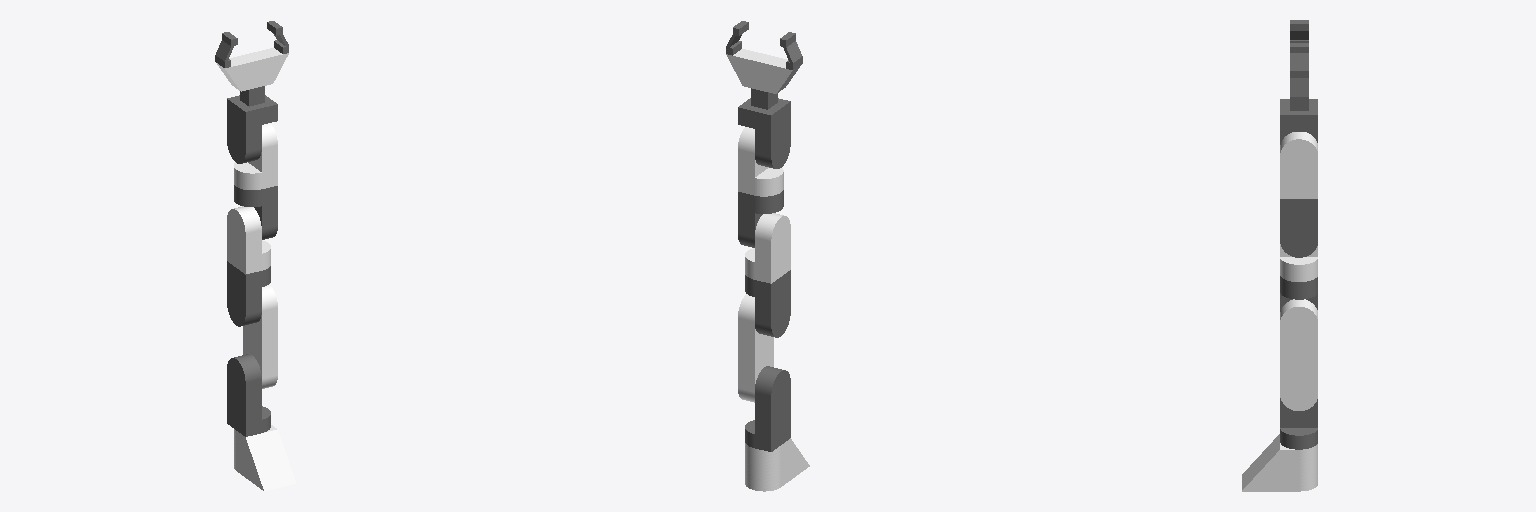
The robot description file, URDF, robot "penguin":
<?xml version="1.0" encoding="utf-8"?>
<!-- =================================================================================== -->
<!-- |    This document was autogenerated by xacro from urdf/mesh_arm.xacro            | -->
<!-- |    EDITING THIS FILE BY HAND IS NOT RECOMMENDED                                 | -->
<!-- =================================================================================== -->
<robot name="penguin">
  <material name="Black">
    <color rgba="0.5 0.5 0.5 1"/>
  </material>
  <material name="White">
    <color rgba="1 1 1 1"/>
  </material>

  <link name="origin">
      <origin xyz="0 0 0.005"/>
  </link>

  <joint name="rotating_base" type="revolute">
    <parent link="origin"/>
    <child link="base_link"/>
    <origin xyz="0 0 0"/>
    <axis xyz="0 0 1"/>
    <limit effort="300" lower="-3.14" upper="3.14" velocity="0.1"/>
  </joint>

  <link name="base_link">
    <visual>
      <geometry>
        <mesh filename="package://robot_description_pkg/meshes/base_link.stl" scale="0.001 0.001 0.001"/>
      </geometry>
      <origin rpy="0 0 0" xyz="0 0 0"/>
      <material name="White"/>
    </visual>
    <collision>
      <geometry>
        <mesh filename="package://robot_description_pkg/meshes/base_link.stl" scale="0.0011 0.0011 0.0011"/>
      </geometry>
      <origin rpy="0 0 0" xyz="0 0 0"/>
    </collision>
  </link>
  <joint name="base_link_link_1" type="revolute">
    <parent link="base_link"/>
    <child link="link_1"/>
    <origin xyz="0 0 0.06"/>
    <axis xyz="0 0 1"/>
    <limit effort="300" lower="-3.14" upper="3.14" velocity="0.1"/>
  </joint>
  <link name="link_1">
    <visual>
      <geometry>
        <mesh filename="package://robot_description_pkg/meshes/link_1.stl" scale="0.001 0.001 0.001"/>
      </geometry>
      <origin rpy="0 0 0" xyz="0 0 0"/>
      <material name="Black"/>
    </visual>
    <collision>
      <geometry>
        <mesh filename="package://robot_description_pkg/meshes/link_1.stl" scale="0.0011 0.0011 0.0011"/>
      </geometry>
      <origin rpy="0 0 0" xyz="0 0 0"/>
    </collision>
    <inertial>
      <mass value="0.075"/>
      <inertia ixx="160347952.0" ixy="0.073988" ixz="15663199.0" iyy="149014144.0" iyz="0.506316" izz="44131488.0"/>
    </inertial>
  </link>
  <joint name="link_1_link_2" type="revolute">
    <parent link="link_1"/>
    <child link="link_2"/>
    <origin xyz="0 0 0.08"/>
    <axis xyz="1 0 0"/>
    <limit effort="300" lower="-2.3" upper="2.3" velocity="0.1"/>
  </joint>
  <link name="link_2">
    <visual>
      <geometry>
        <mesh filename="package://robot_description_pkg/meshes/link_2.stl" scale="0.001 0.001 0.001"/>
      </geometry>
      <origin rpy="0 0 0" xyz="0 0 0"/>
      <material name="White"/>
    </visual>
    <collision>
      <geometry>
        <mesh filename="package://robot_description_pkg/meshes/link_2.stl" scale="0.0011 0.0011 0.0011"/>
      </geometry>
      <origin rpy="0 0 0" xyz="0 0 0"/>
    </collision>
    <inertial>
      <mass value="0.075"/>
      <inertia ixx="320315008.0" ixy="0.025285" ixz="1.992257" iyy="295672384.0" iyz="0.10713" izz="42775932.0"/>
    </inertial>
  </link>
  <joint name="link_2_link_3" type="revolute">
    <parent link="link_2"/>
    <child link="link_3"/>
    <origin xyz="0 0 0.1"/>
    <axis xyz="1 0 0"/>
    <limit effort="300" lower="-1.8" upper="1.8" velocity="0.1"/>
  </joint>
  <link name="link_3">
    <visual>
      <geometry>
        <mesh filename="package://robot_description_pkg/meshes/link_3.stl" scale="0.001 0.001 0.001"/>
      </geometry>
      <origin rpy="0 0 0" xyz="0 0 0"/>
      <material name="Black"/>
    </visual>
    <collision>
      <geometry>
        <mesh filename="package://robot_description_pkg/meshes/link_3.stl" scale="0.0011 0.0011 0.0011"/>
      </geometry>
      <origin rpy="0 0 0" xyz="0 0 0"/>
    </collision>
    <inertial>
      <mass value="0.075"/>
      <inertia ixx="93527256.0" ixy="0.003871" ixz="12514371.0" iyy="87003976.0" iyz="0.035148" izz="40058448.0"/>
    </inertial>
  </link>
  <joint name="link_3_link_4" type="revolute">
    <parent link="link_3"/>
    <child link="link_4"/>
    <origin xyz="0 0 0.06"/>
    <axis xyz="0 0 1"/>
    <limit effort="300" lower="-3.14" upper="3.14" velocity="0.1"/>
  </joint>
  <link name="link_4">
    <visual>
      <geometry>
        <mesh filename="package://robot_description_pkg/meshes/link_4.stl" scale="0.001 0.001 0.001"/>
      </geometry>
      <origin rpy="0 0 0" xyz="0 0 0"/>
      <material name="White"/>
    </visual>
    <collision>
      <geometry>
        <mesh filename="package://robot_description_pkg/meshes/link_4.stl" scale="0.0011 0.0011 0.0011"/>
      </geometry>
      <origin rpy="0 0 0" xyz="0 0 0"/>
    </collision>
    <inertial>
      <mass value="0.075"/>
      <inertia ixx="93527256.0" ixy="0.003871" ixz="12514371.0" iyy="87003976.0" iyz="0.035148" izz="40058448.0"/>
    </inertial>
  </link>
  <joint name="link_4_link_5" type="revolute">
    <parent link="link_4"/>
    <child link="link_5"/>
    <origin xyz="0 0 0.06"/>
    <axis xyz="1 0 0"/>
    <limit effort="300" lower="-1.8" upper="1.8" velocity="0.1"/>
  </joint>
  <link name="link_5">
    <visual>
      <geometry>
        <mesh filename="package://robot_description_pkg/meshes/link_3.stl" scale="0.001 0.001 0.001"/>
      </geometry>
      <origin rpy="0 0 3.14" xyz="0 0 0"/>
      <material name="Black"/>
    </visual>
    <collision>
      <geometry>
        <mesh filename="package://robot_description_pkg/meshes/link_3.stl" scale="0.0011 0.0011 0.0011"/>
      </geometry>
      <origin rpy="0 0 3.14" xyz="0 0 0"/>
    </collision>
    <inertial>
      <mass value="0.075"/>
      <inertia ixx="93527256.0" ixy="0.003871" ixz="12514371.0" iyy="87003976.0" iyz="0.035148" izz="40058448.0"/>
    </inertial>
  </link>
  <joint name="link_5_link_6" type="revolute">
    <parent link="link_5"/>
    <child link="link_6"/>
    <origin xyz="0 0 0.06"/>
    <axis xyz="0 0 1"/>
    <limit effort="300" lower="-3.14" upper="3.14" velocity="0.1"/>
  </joint>
  <link name="link_6">
    <visual>
      <geometry>
        <mesh filename="package://robot_description_pkg/meshes/link_4.stl" scale="0.001 0.001 0.001"/>
      </geometry>
      <origin rpy="0 0 3.14" xyz="0 0 0"/>
      <material name="White"/>
    </visual>
    <collision>
      <geometry>
        <mesh filename="package://robot_description_pkg/meshes/link_4.stl" scale="0.0011 0.0011 0.0011"/>
      </geometry>
      <origin rpy="0 0 3.14" xyz="0 0 0"/>
    </collision>
    <inertial>
      <mass value="0.075"/>
      <inertia ixx="93527256.0" ixy="0.003871" ixz="12514371.0" iyy="87003976.0" iyz="0.035148" izz="40058448.0"/>
    </inertial>
  </link>
  <joint name="link_6_link_7" type="revolute">
    <parent link="link_6"/>
    <child link="link_7"/>
    <origin xyz="0 0 0.06"/>
    <axis xyz="1 0 0"/>
    <limit effort="300" lower="-1.8" upper="1.8" velocity="0.1"/>
  </joint>
  <link name="link_7">
    <visual>
      <geometry>
        <mesh filename="package://robot_description_pkg/meshes/link_5.stl" scale="0.001 0.001 0.001"/>
      </geometry>
      <origin rpy="0 0 0" xyz="0 0 0"/>
      <material name="Black"/>
    </visual>
    <collision>
      <geometry>
        <mesh filename="package://robot_description_pkg/meshes/link_5.stl" scale="0.0011 0.0011 0.0011"/>
      </geometry>
      <origin rpy="0 0 0" xyz="0 0 0"/>
    </collision>
    <inertial>
      <mass value="0.075"/>
      <inertia ixx="130744760.0" ixy="0.001162" ixz="20542782.0" iyy="127046656.0" iyz="0.004876" izz="49867952.0"/>
    </inertial>
  </link>
  <joint name="link_7_hand" type="fixed">
    <parent link="link_7"/>
    <child link="hand"/>
    <origin xyz="0 0 0.085"/>
  </joint>
  <link name="hand">
    <visual>
      <geometry>
        <mesh filename="package://robot_description_pkg/meshes/hand.stl" scale="0.001 0.001 0.001"/>
      </geometry>
      <origin rpy="0 0 0" xyz="0 0 0"/>
      <material name="White"/>
    </visual>
    <collision>
      <geometry>
        <mesh filename="package://robot_description_pkg/meshes/hand.stl" scale="0.0011 0.0011 0.0011"/>
      </geometry>
      <origin rpy="0 0 0" xyz="0 0 0"/>
    </collision>
    <inertial>
      <mass value="0.075"/>
      <inertia ixx="13535881.0" ixy="0.005851" ixz="0.209502" iyy="48692132.0" iyz="0.001552" izz="42968752.0"/>
    </inertial>
  </link>
  <joint name="hand_finger_1" type="prismatic">
    <parent link="hand"/>
    <child link="finger_1"/>
    <origin xyz="0.03 0 0.04"/>
    <limit effort="100" lower="-0.03" upper="0" velocity="1.0"/>
    <mimic joint="hand_finger_2" multiplier="-1"/>
  </joint>
  <link name="finger_1">
    <visual>
      <geometry>
        <mesh filename="package://robot_description_pkg/meshes/finger.stl" scale="0.001 0.001 0.001"/>
      </geometry>
      <origin rpy="0 0 0" xyz="0 0 0"/>
      <material name="Black"/>
    </visual>
    <collision>
      <geometry>
        <mesh filename="package://robot_description_pkg/meshes/finger.stl" scale="0.0011 0.0011 0.0011"/>
      </geometry>
      <origin rpy="0 0 0" xyz="0 0 0"/>
    </collision>
    <inertial>
      <mass value="0.01"/>
      <inertia ixx="1640625.0" ixy="0.000262" ixz="416666.65625" iyy="1453125.5" iyz="0.000365" izz="593749.9375"/>
    </inertial>
  </link>
  <joint name="hand_finger_2" type="prismatic">
    <parent link="hand"/>
    <child link="finger_2"/>
    <origin xyz="-0.03 0 0.04"/>
    <limit effort="100" lower="0" upper="0.03" velocity="1.0"/>
  </joint>
  <link name="finger_2">
    <visual>
      <geometry>
        <mesh filename="package://robot_description_pkg/meshes/finger.stl" scale="0.001 0.001 0.001"/>
      </geometry>
      <origin rpy="0 0 3.14" xyz="0 0 0"/>
      <material name="Black"/>
    </visual>
    <collision>
      <geometry>
        <mesh filename="package://robot_description_pkg/meshes/finger.stl" scale="0.0011 0.0011 0.0011"/>
      </geometry>
      <origin rpy="0 0 3.14" xyz="0 0 0"/>
    </collision>
    <inertial>
      <mass value="0.01"/>
      <inertia ixx="1640625.0" ixy="0.000262" ixz="416666.65625" iyy="1453125.5" iyz="0.000365" izz="593749.9375"/>
    </inertial>
  </link>
</robot>

--- Facts derived from the render (not from the file) ---
3 views of the same robot in one strip: view 1: azimuth 30°, elevation 25°; view 2: azimuth 150°, elevation 25°; view 3: azimuth 270°, elevation 25° (orthographic).
Robot: penguin — 12 links, 11 joints (8 revolute, 2 prismatic, 1 fixed); root link origin; default pose: every joint at zero.
Links seen in each view (by area): view 1: link_1, link_7, base_link, link_4, link_2, link_3, hand, link_6, link_5; view 2: link_1, link_7, link_4, link_2, base_link, link_3, hand, link_6, link_5, finger_2; view 3: link_2, base_link, link_6, link_5, link_1, link_7, link_4, link_3, finger_1.
Boxes of the visible links, <box> form: link_1: <box>227,354,270,436</box>; link_7: <box>227,86,277,163</box>; base_link: <box>234,425,296,490</box>; link_4: <box>227,206,270,274</box>; link_2: <box>243,284,277,388</box>; link_3: <box>227,261,270,326</box>; hand: <box>217,48,288,91</box>; link_6: <box>234,123,277,189</box>; link_5: <box>234,185,277,239</box>; link_1: <box>745,366,790,451</box>; link_7: <box>738,88,790,168</box>; link_4: <box>745,213,790,283</box>; link_2: <box>738,294,773,402</box>; base_link: <box>745,438,809,491</box>; link_3: <box>745,270,790,337</box>; hand: <box>726,49,802,93</box>; link_6: <box>738,127,783,196</box>; link_5: <box>738,190,783,247</box>; finger_2: <box>780,32,802,69</box>; link_2: <box>1280,299,1317,410</box>; base_link: <box>1242,434,1317,491</box>; link_6: <box>1280,132,1317,198</box>; link_5: <box>1280,199,1317,257</box>; link_1: <box>1280,398,1317,449</box>; link_7: <box>1280,97,1317,144</box>; link_4: <box>1280,244,1317,281</box>; link_3: <box>1280,276,1317,311</box>; finger_1: <box>1290,43,1308,77</box>.
Bounding box of the posed robot: 0.1 × 0.1 × 0.645 m (x, y, z).
11 mesh visuals loaded from 8 distinct referenced files (8 binary STL).
